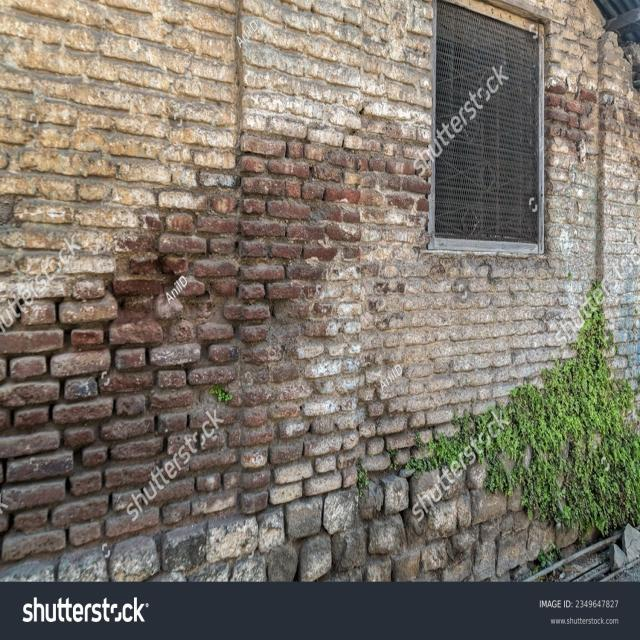Crack: (0, 0, 639, 581)
